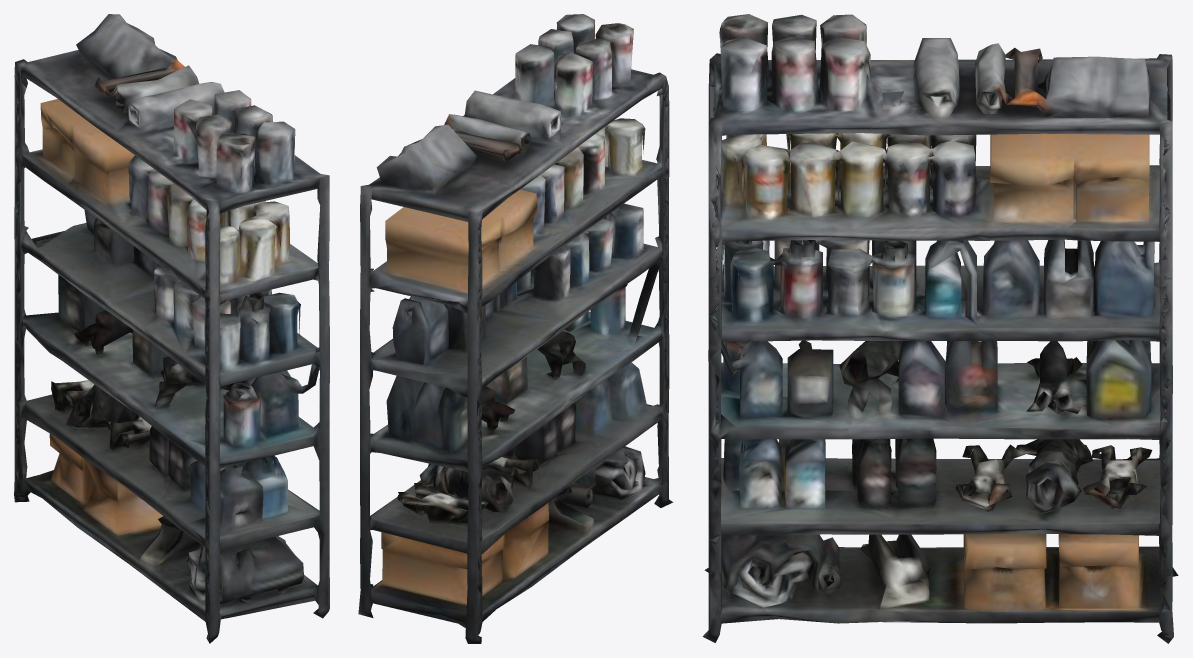
Rendered from gr_shelf.glb.
3 views of the same model, side by side, from view 1: azimuth 30°, elevation 25°; view 2: azimuth 150°, elevation 25°; view 3: azimuth 270°, elevation 25° (orthographic). The views are drawn at different scales.
Visible parts, largest first — view 1: tripo_node_4860ec03-7b77-4f6d-aaeb-e00a82948f64; view 2: tripo_node_4860ec03-7b77-4f6d-aaeb-e00a82948f64; view 3: tripo_node_4860ec03-7b77-4f6d-aaeb-e00a82948f64.
Part boxes in pixels (<box>): tripo_node_4860ec03-7b77-4f6d-aaeb-e00a82948f64: <box>14,14,329,643</box>; tripo_node_4860ec03-7b77-4f6d-aaeb-e00a82948f64: <box>358,14,673,643</box>; tripo_node_4860ec03-7b77-4f6d-aaeb-e00a82948f64: <box>702,14,1178,643</box>.
Size of the model in its own units: 0.2652 by 0.9803 by 0.7365.
Materials: 1 (1 with a texture image).
